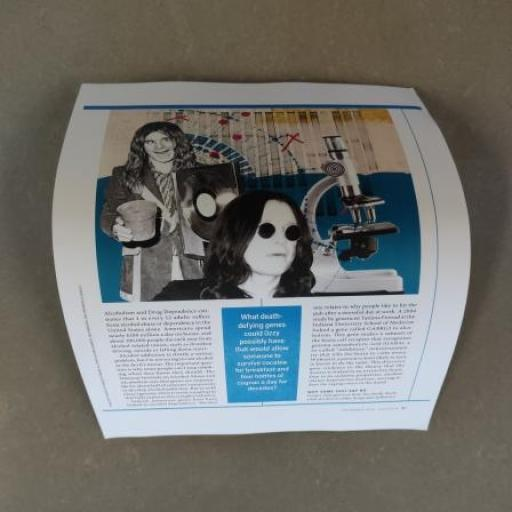paper: (33, 27, 512, 511)
